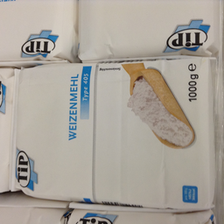flour: (12, 59, 215, 210), (77, 1, 222, 59)
